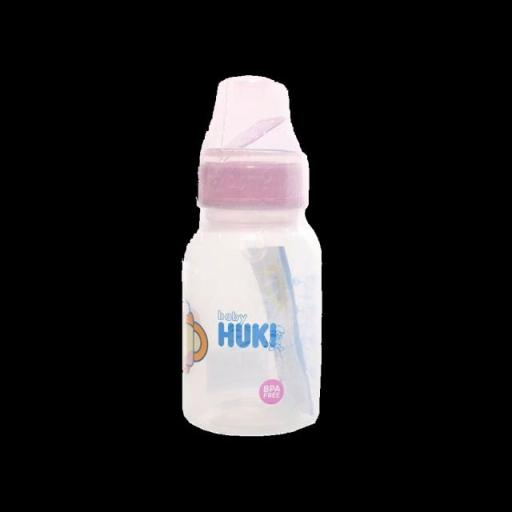plastic: (181, 74, 317, 440)
